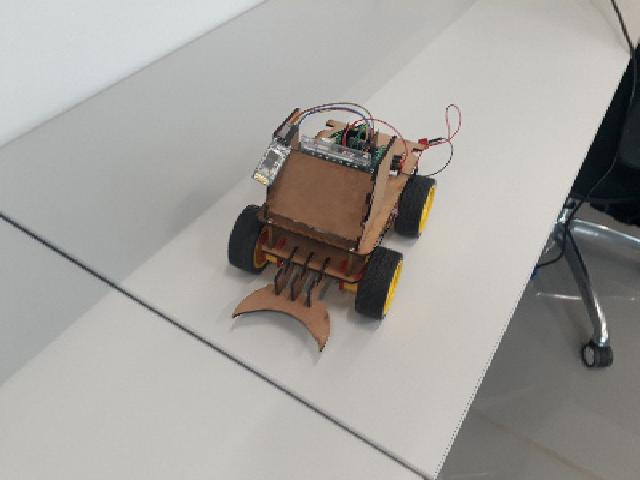Robot: (224, 106, 438, 353)
